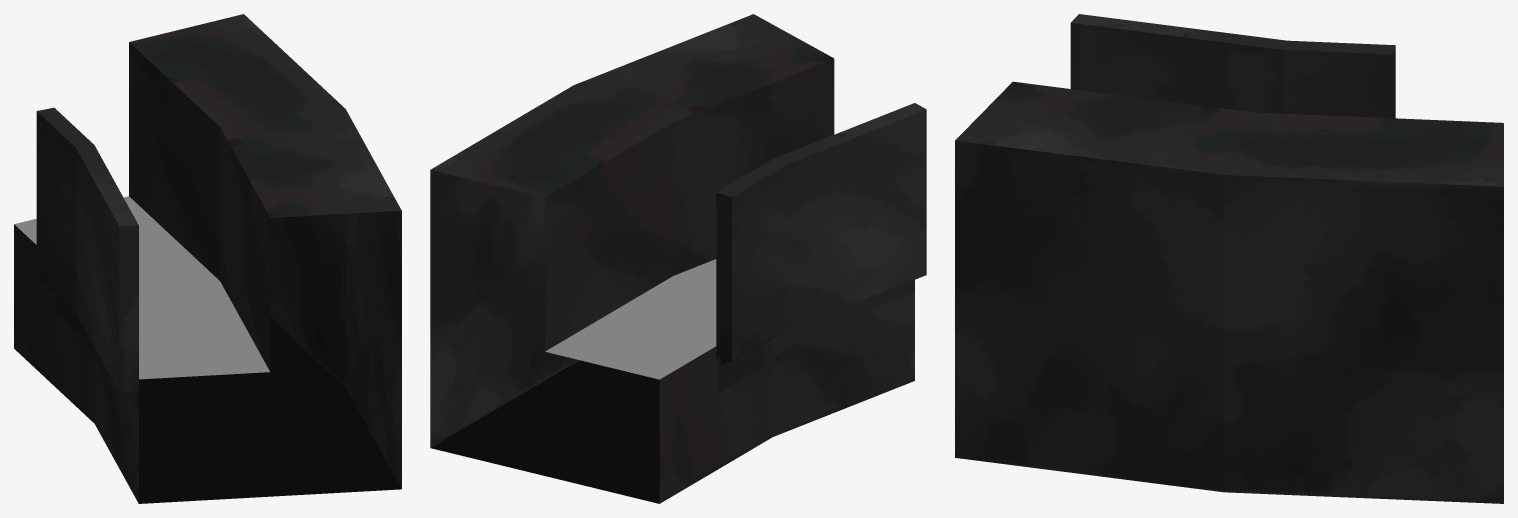
The model's file is top_04.obj.
3 renders of one model, left to right at view 1: azimuth 30°, elevation 25°; view 2: azimuth 150°, elevation 25°; view 3: azimuth 270°, elevation 25°, orthographic. The views are drawn at different scales.
Visible parts, largest first — view 1: Cylinder.041; view 2: Cylinder.041; view 3: Cylinder.041.
Part boxes in pixels (x1=…): Cylinder.041: x1=14, y1=14, x2=401, y2=503; Cylinder.041: x1=430, y1=14, x2=926, y2=503; Cylinder.041: x1=955, y1=14, x2=1503, y2=503.
Bounding box in the file's own units: 10.98 × 9.41 × 14.74.
